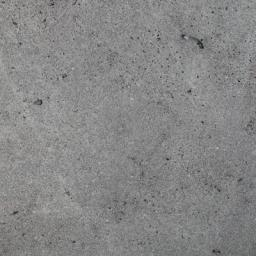FOD: (182, 33, 206, 50)
